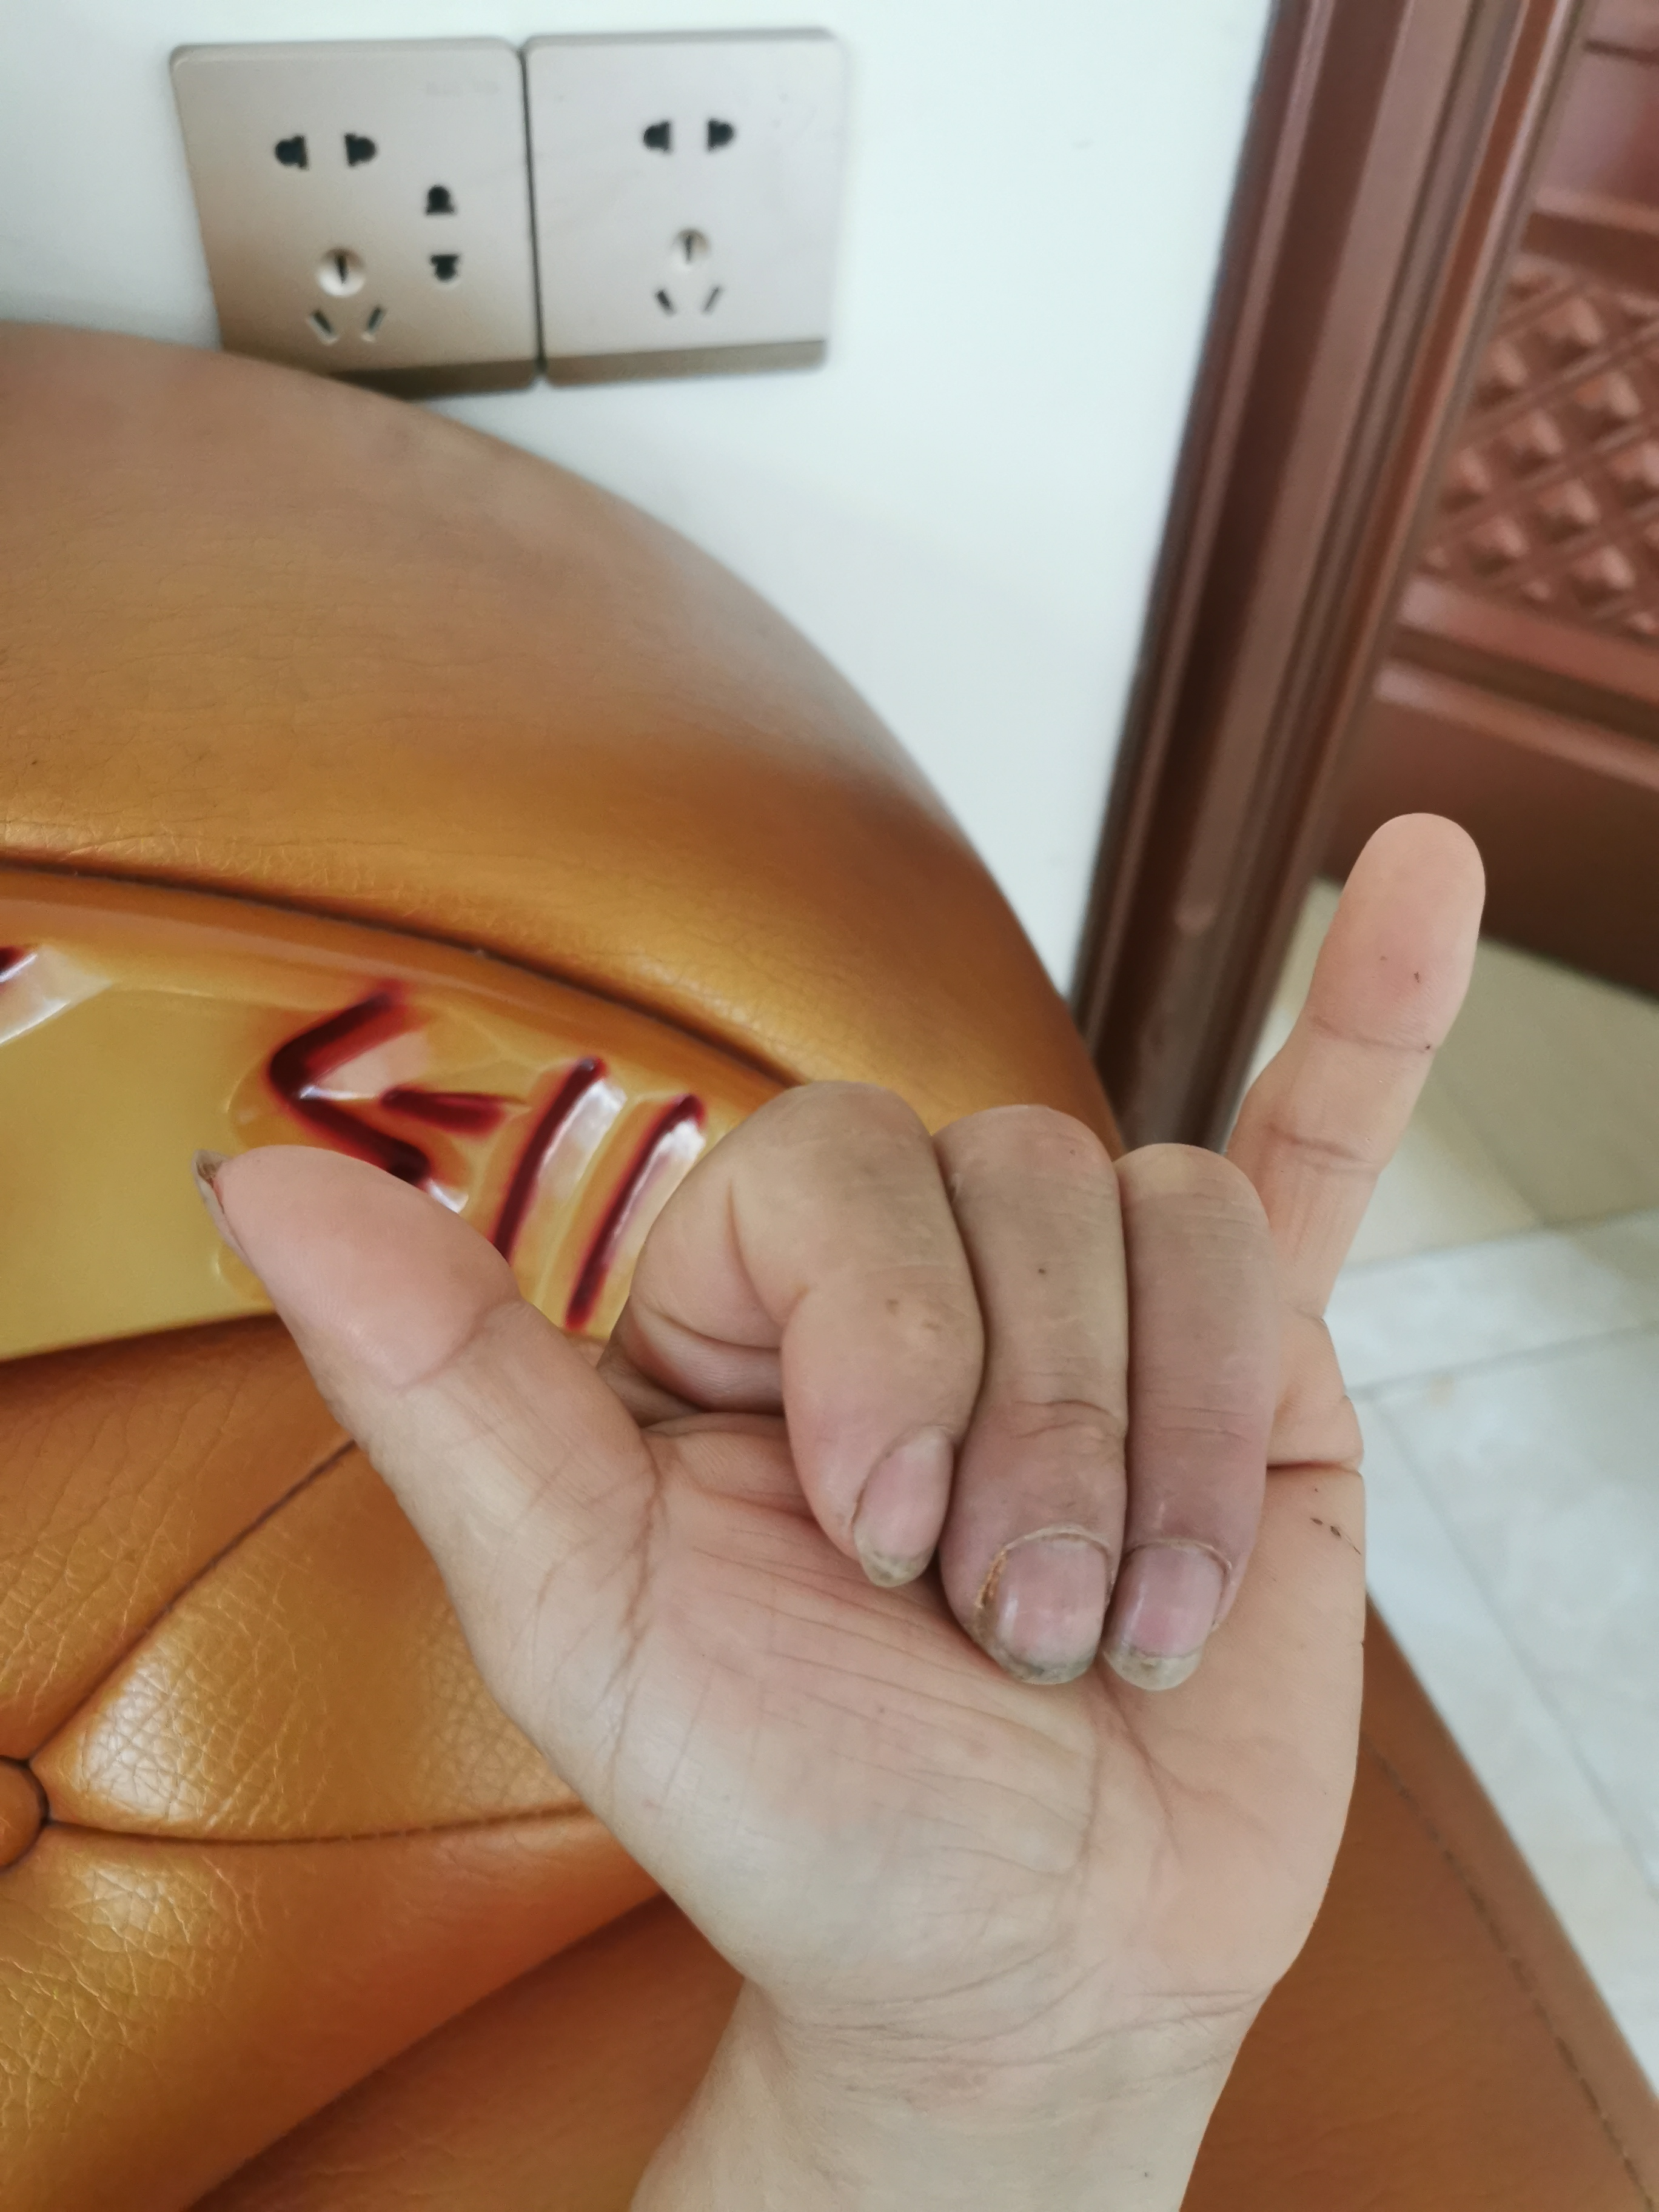clockwise: (185, 761, 1495, 2127)
